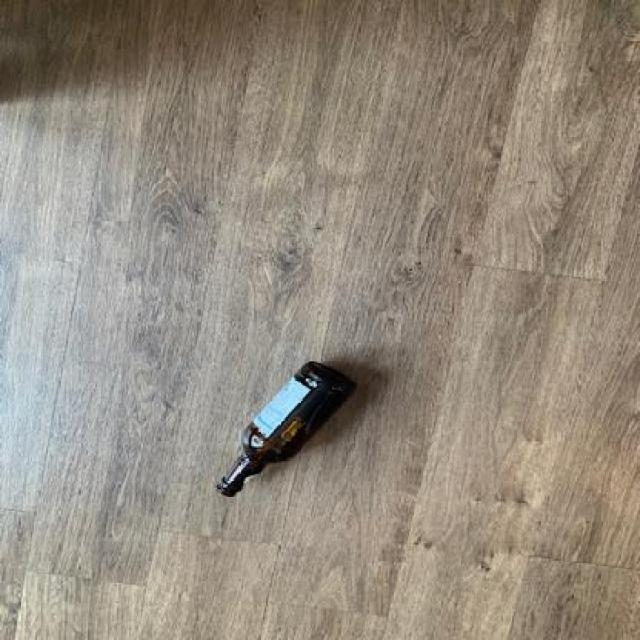trash: (212, 362, 356, 500)
